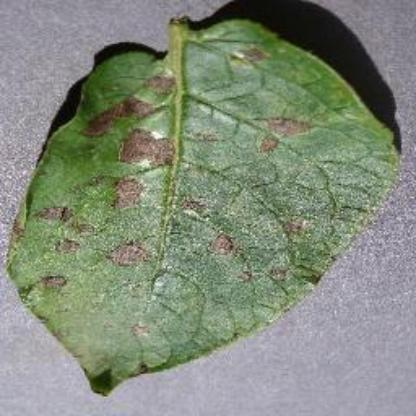Early-Blight: (10, 11, 400, 397)
